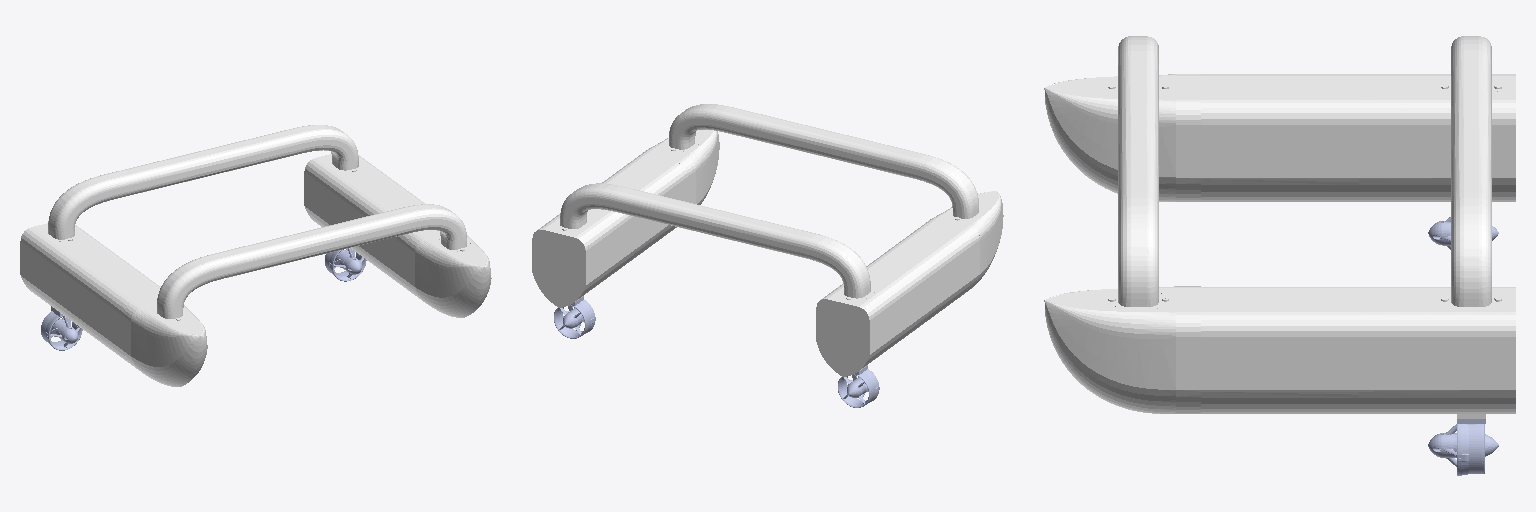
robot.urdf — boatcleaningg:
<?xml version="1.0" encoding="utf-8"?>
<!-- This URDF was automatically created by SolidWorks to URDF Exporter! Originally created by [author] ([email redacted]) 
     Commit Version: 1.6.0-4-g7f85cfe  Build Version: 1.6.7995.38578
     For more information, please see http://wiki.ros.org/sw_urdf_exporter -->
<robot
  name="boatcleaningg">
  <link
    name="baseboatclening">
    <inertial>
      <origin
        xyz="0.291482354966402 0.0870598960098232 1.68366201575933"
        rpy="0 0 0" />
      <mass
        value="13.2107912938572" />
      <inertia
        ixx="0.0958997996659019"
        ixy="1.00833029988145E-05"
        ixz="1.21620939710939E-06"
        iyy="0.13622584599347"
        iyz="-0.00147964544413288"
        izz="0.124589315343275" />
    </inertial>
    <visual>
      <origin
        xyz="0 0 0"
        rpy="0 0 0" />
      <geometry>
        <mesh
          filename="package://boatcleaningg/meshes/baseboatclening.STL" />
      </geometry>
      <material
        name="">
        <color
          rgba="1 1 1 1" />
      </material>
    </visual>
    <collision>
      <origin
        xyz="0 0 0"
        rpy="0 0 0" />
      <geometry>
        <mesh
          filename="package://boatcleaningg/meshes/baseboatclening.STL" />
      </geometry>
    </collision>
  </link>
  <link
    name="axegauche">
    <inertial>
      <origin
        xyz="0.00873527134160068 0.000331307956085491 0.0185037745550877"
        rpy="0 0 0" />
      <mass
        value="0.260662654122487" />
      <inertia
        ixx="0.000219882521629366"
        ixy="-1.97695515741402E-07"
        ixz="-2.05764499145904E-06"
        iyy="0.000170374195889187"
        iyz="-9.03282563397798E-07"
        izz="0.00013115676220976" />
    </inertial>
    <visual>
      <origin
        xyz="0 0 0"
        rpy="0 0 0" />
      <geometry>
        <mesh
          filename="package://boatcleaningg/meshes/axegauche.STL" />
      </geometry>
      <material
        name="">
        <color
          rgba="0.792156862745098 0.819607843137255 0.933333333333333 1" />
      </material>
    </visual>
    <collision>
      <origin
        xyz="0 0 0"
        rpy="0 0 0" />
      <geometry>
        <mesh
          filename="package://boatcleaningg/meshes/axegauche.STL" />
      </geometry>
    </collision>
  </link>
  <joint
    name="axegauchejoint"
    type="fixed">
    <origin
      xyz="0.690184331806614 -1.41938785829127 -0.119787998985034"
      rpy="0 0 -1.5707963267949" />
    <parent
      link="baseboatclening" />
    <child
      link="axegauche" />
    <axis
      xyz="0 0 0" />
  </joint>
  <link
    name="fangauche">
    <inertial>
      <origin
        xyz="0.0121880649596051 -1.96166660693109E-09 4.45801809495494E-08"
        rpy="0 0 0" />
      <mass
        value="0.00795785659641827" />
      <inertia
        ixx="3.72710558894489E-06"
        ixy="2.12970220296124E-13"
        ixz="-8.34019260551591E-13"
        iyy="2.39331655167268E-06"
        iyz="-4.61638273535231E-10"
        izz="2.39447831194732E-06" />
    </inertial>
    <visual>
      <origin
        xyz="0 0 0"
        rpy="0 0 0" />
      <geometry>
        <mesh
          filename="package://boatcleaningg/meshes/fangauche.STL" />
      </geometry>
      <material
        name="">
        <color
          rgba="0.792156862745098 0.819607843137255 0.933333333333333 1" />
      </material>
    </visual>
    <collision>
      <origin
        xyz="0 0 0"
        rpy="0 0 0" />
      <geometry>
        <mesh
          filename="package://boatcleaningg/meshes/fangauche.STL" />
      </geometry>
    </collision>
  </link>
  <joint
    name="fangauchejoint"
    type="continuous">
    <origin
      xyz="0 0 0"
      rpy="0 0 0" />
    <parent
      link="axegauche" />
    <child
      link="fangauche" />
    <axis
      xyz="1 0 0" />
  </joint>
  <link
    name="axedroit">
    <inertial>
      <origin
        xyz="0.00771927083304313 0.000331307880604745 0.0185037747944475"
        rpy="0 0 0" />
      <mass
        value="0.260662649795333" />
      <inertia
        ixx="0.000219882521227834"
        ixy="-1.97696190660657E-07"
        ixz="-2.05764496393914E-06"
        iyy="0.000170374195884343"
        iyz="-9.03282583437017E-07"
        izz="0.000131156761551184" />
    </inertial>
    <visual>
      <origin
        xyz="0 0 0"
        rpy="0 0 0" />
      <geometry>
        <mesh
          filename="package://boatcleaningg/meshes/axedroit.STL" />
      </geometry>
      <material
        name="">
        <color
          rgba="0.792156862745098 0.819607843137255 0.933333333333333 1" />
      </material>
    </visual>
    <collision>
      <origin
        xyz="0 0 0"
        rpy="0 0 0" />
      <geometry>
        <mesh
          filename="package://boatcleaningg/meshes/axedroit.STL" />
      </geometry>
    </collision>
  </link>
  <joint
    name="axedroitjoint"
    type="fixed">
    <origin
      xyz="-0.109815668193448 -1.42040385829127 -0.119787998985034"
      rpy="0 0 -1.5707963267949" />
    <parent
      link="baseboatclening" />
    <child
      link="axedroit" />
    <axis
      xyz="0 0 0" />
  </joint>
  <link
    name="fandroit">
    <inertial>
      <origin
        xyz="0.0111720649596025 -1.96166083377136E-09 4.45801802001489E-08"
        rpy="0 0 0" />
      <mass
        value="0.0079578565964185" />
      <inertia
        ixx="3.72710558894501E-06"
        ixy="2.12970222312377E-13"
        ixz="-8.34019270266116E-13"
        iyy="2.39331655167276E-06"
        iyz="-4.61638273470576E-10"
        izz="2.39447831194736E-06" />
    </inertial>
    <visual>
      <origin
        xyz="0 0 0"
        rpy="0 0 0" />
      <geometry>
        <mesh
          filename="package://boatcleaningg/meshes/fandroit.STL" />
      </geometry>
      <material
        name="">
        <color
          rgba="0.792156862745098 0.819607843137255 0.933333333333333 1" />
      </material>
    </visual>
    <collision>
      <origin
        xyz="0 0 0"
        rpy="0 0 0" />
      <geometry>
        <mesh
          filename="package://boatcleaningg/meshes/fandroit.STL" />
      </geometry>
    </collision>
  </link>
  <joint
    name="fandroitjoint"
    type="continuous">
    <origin
      xyz="0 0 0"
      rpy="0 0 0" />
    <parent
      link="axedroit" />
    <child
      link="fandroit" />
    <axis
      xyz="1 0 0" />
  </joint>
</robot>

--- What the picture shows (computed from the rendered views, not written in the file) ---
Views: 3 orthographic renders of the robot side by side, from view 1: azimuth 30°, elevation 25°; view 2: azimuth 150°, elevation 25°; view 3: azimuth 270°, elevation 25°.
Model boatcleaningg with 5 links and 4 joints (2 continuous, 2 fixed), rooted at baseboatclening, posed every joint at zero.
Links seen in each view (by area): view 1: baseboatclening, axedroit, axegauche; view 2: baseboatclening, axegauche, axedroit; view 3: baseboatclening, axegauche, axedroit.
Boxes of the visible links, x1=… form: baseboatclening: x1=20, y1=125, x2=491, y2=386; axedroit: x1=41, y1=307, x2=82, y2=350; axegauche: x1=325, y1=248, x2=366, y2=281; baseboatclening: x1=532, y1=104, x2=1003, y2=376; axegauche: x1=554, y1=296, x2=595, y2=338; axedroit: x1=838, y1=366, x2=879, y2=407; baseboatclening: x1=1044, y1=36, x2=1515, y2=418; axegauche: x1=1428, y1=419, x2=1498, y2=475; axedroit: x1=1428, y1=217, x2=1498, y2=249.
Bounding box of the posed robot: 0.95 × 0.75 × 0.4268 m (x, y, z).
5 mesh visuals loaded from 5 distinct referenced files (5 binary STL).